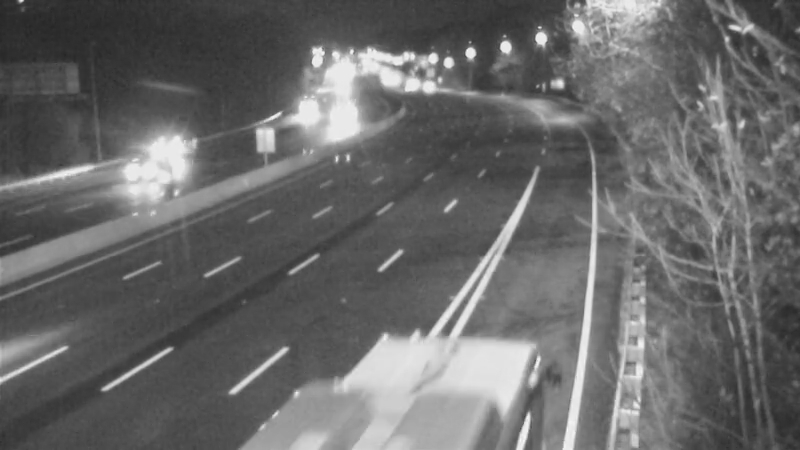vehicle: (119, 131, 199, 211), (315, 93, 365, 143), (281, 81, 331, 131)
